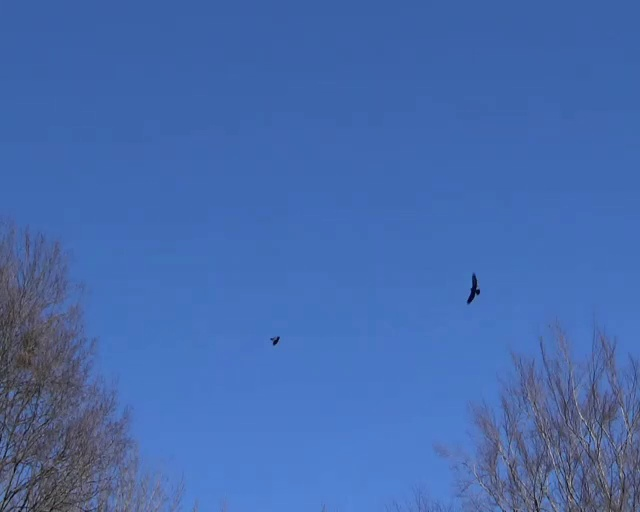BIRD: (467, 273, 481, 304)
